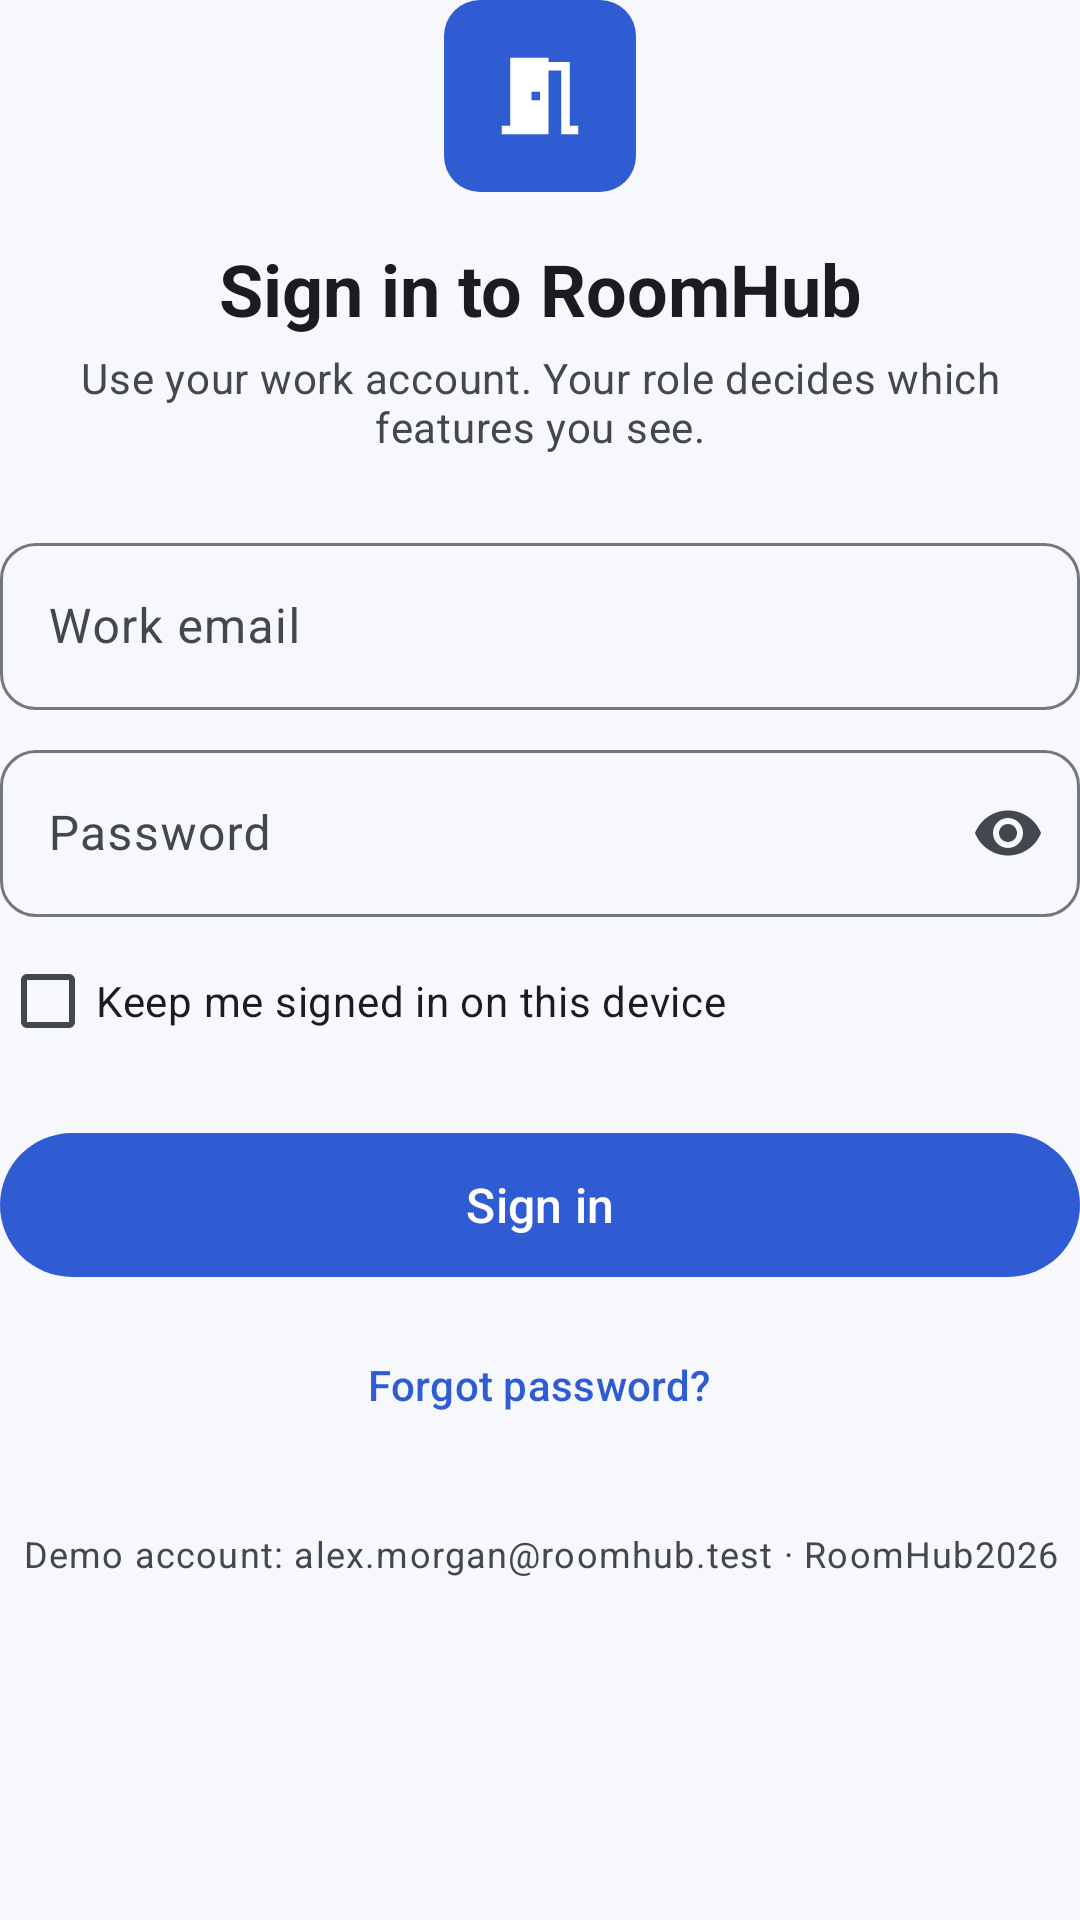

Named icons in this screenshot (1080w x 1920h) and their bounding boxes, (x1, y1, x2, y2):
meeting room: (501, 57, 579, 135)
